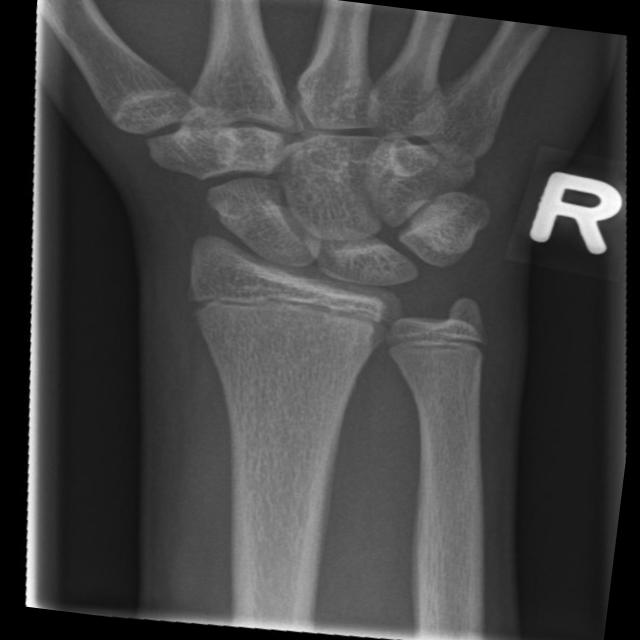fracture: (167, 264, 406, 355), (366, 310, 504, 376)
